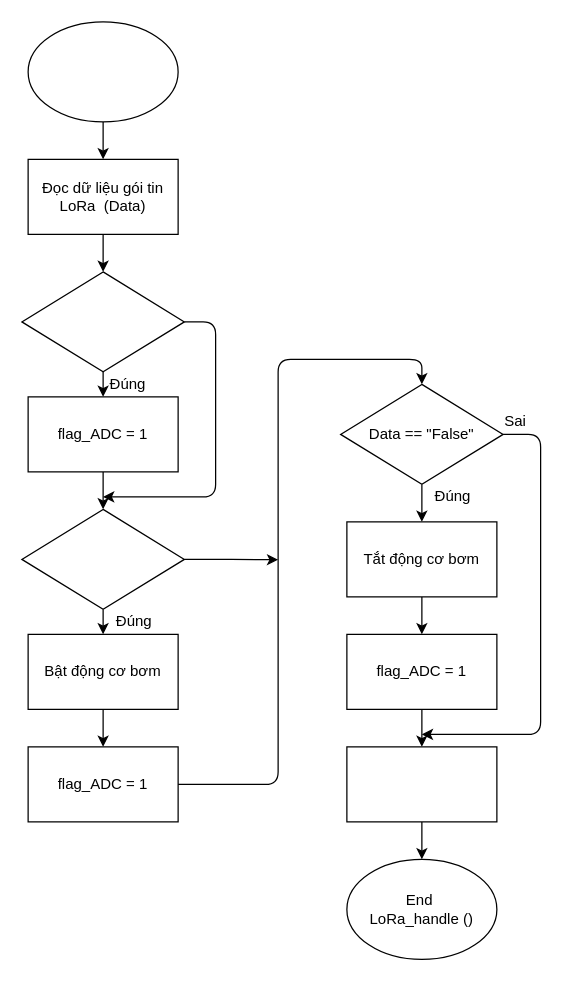
This 573x981 diagram has some shape labels left out. Here are the shapes that lost their labels. From the top down, the centre of each, then its label:
point 102,71: Begin LoRa_handle ()
point 102,321: Data == "CT"
point 102,558: Data == "True"
point 421,784: Count_ADC = 0 ADC_Max = 0
